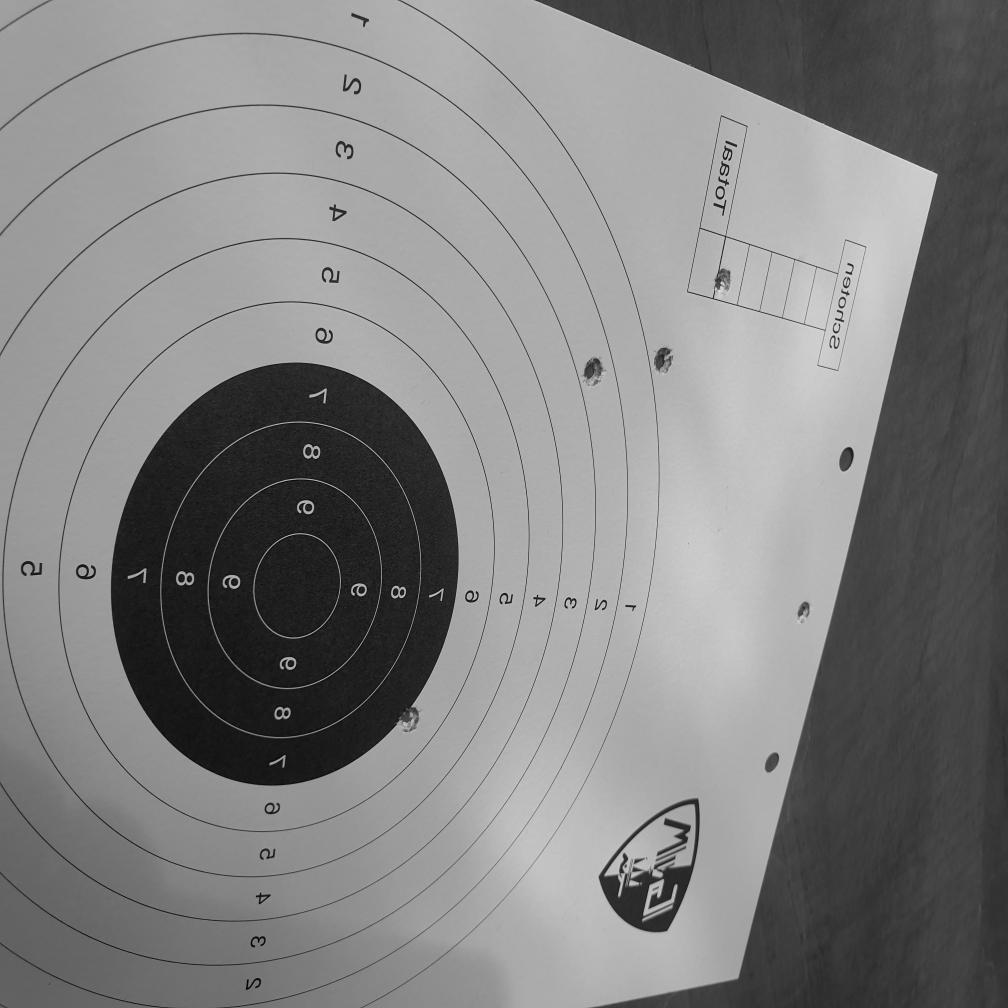0: (713, 268, 734, 297), (652, 346, 672, 376), (797, 602, 812, 622)
2: (581, 356, 605, 388)
7: (397, 705, 421, 735)
Target: (0, 0, 665, 1008)
black_contour: (110, 360, 458, 789)
